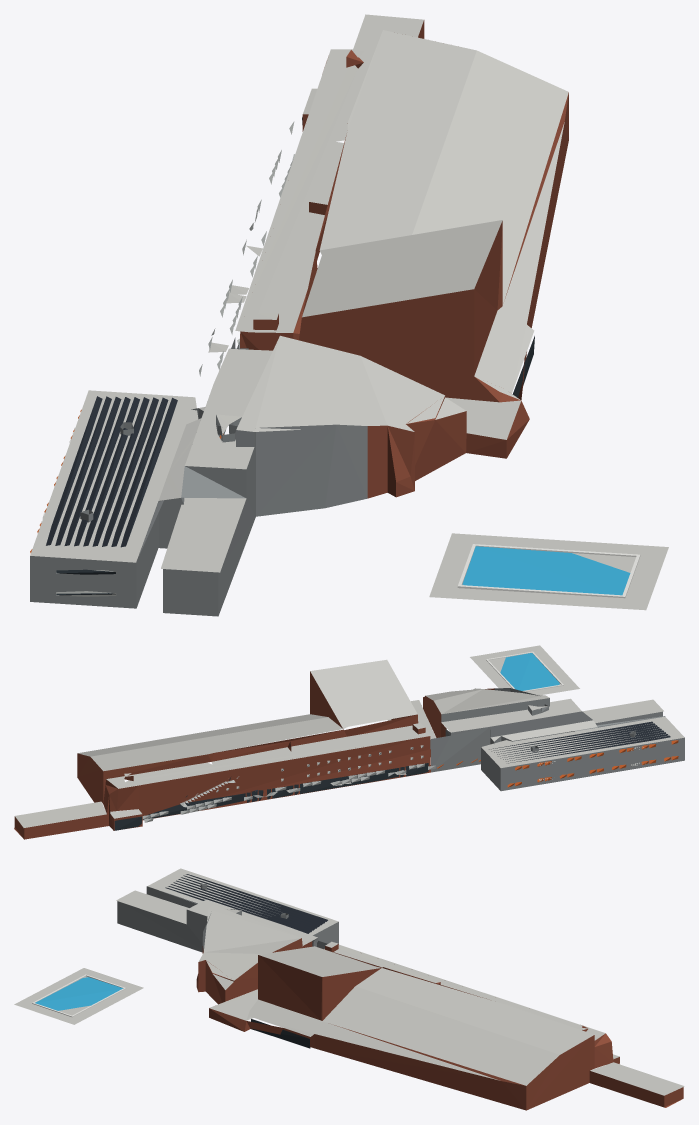
The model's file is sloterparkbad.lod1.glb.
The picture shows the model from 3 angles, top to bottom: view 1: azimuth 30°, elevation 25°; view 2: azimuth 150°, elevation 25°; view 3: azimuth 270°, elevation 25°; orthographic projection. The views are drawn at different scales.
Visible parts, largest first — view 1: sloterparkbad; view 2: sloterparkbad; view 3: sloterparkbad.
Boxes of the visible parts, x1,y1,x2,y2 form: sloterparkbad: (30, 14, 668, 616); sloterparkbad: (14, 645, 684, 839); sloterparkbad: (14, 868, 684, 1110).
Size of the model in its own units: 152 by 21.75 by 197.
